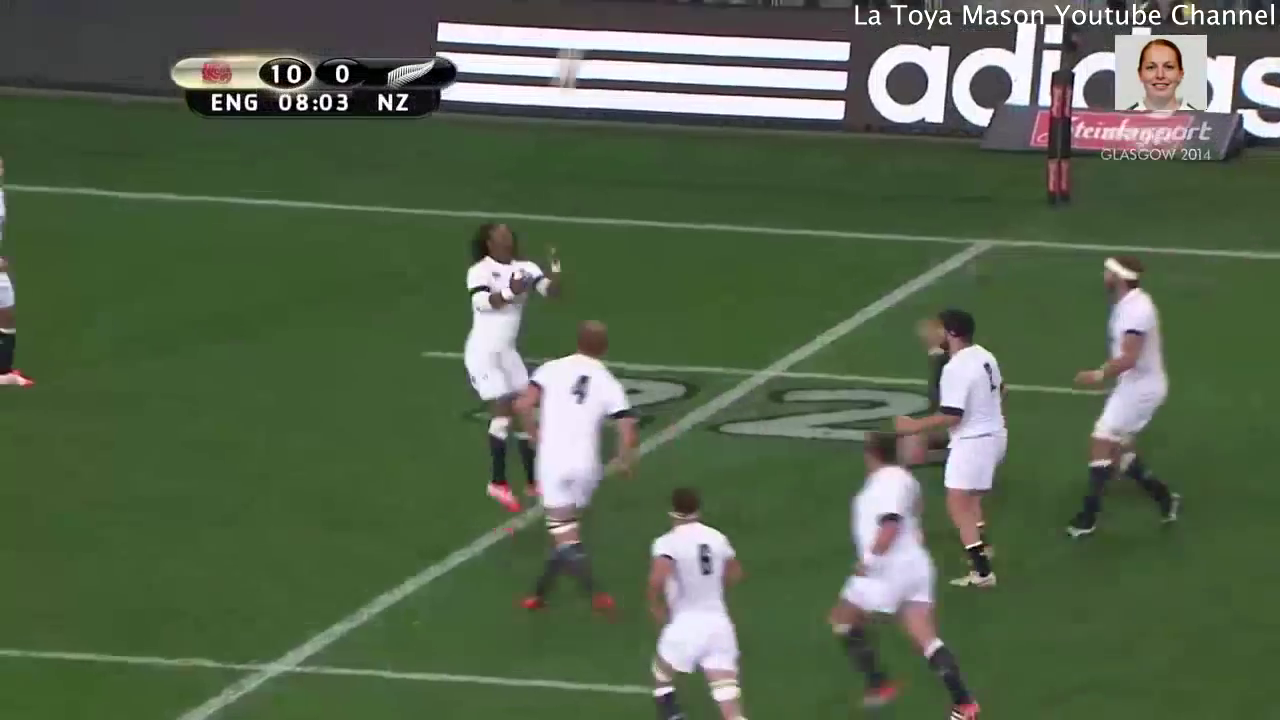player: (826, 420, 987, 720), (493, 303, 641, 606), (1059, 244, 1182, 549), (461, 198, 564, 524), (626, 475, 752, 720), (932, 304, 1017, 604)
